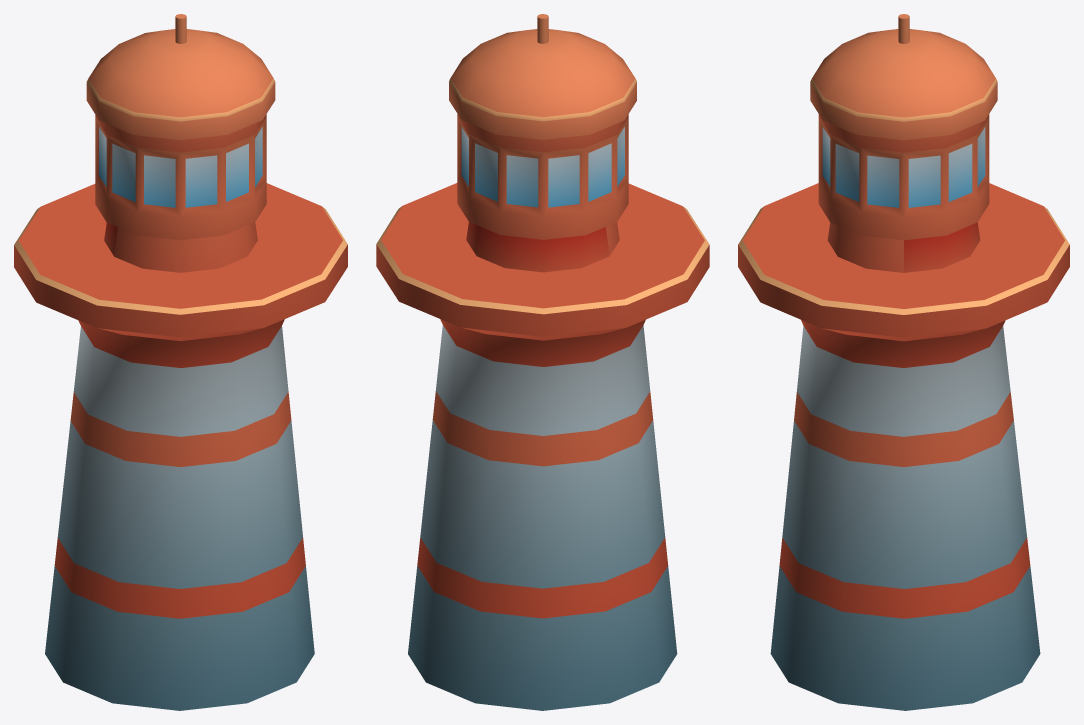
Rendered from light_house.glb.
3 renders of one model, left to right at view 1: azimuth 30°, elevation 25°; view 2: azimuth 150°, elevation 25°; view 3: azimuth 270°, elevation 25°, orthographic.
Parts seen in each view (by area): view 1: Light House; view 2: Light House; view 3: Light House.
Part boxes in pixels (x1,y1,x2,y2): Light House: (14,14,347,710); Light House: (376,14,709,710); Light House: (738,14,1069,710).
Bounding box in the file's own units: 10.41 × 21.91 × 10.33.
Materials: 1 (1 with a texture image).
